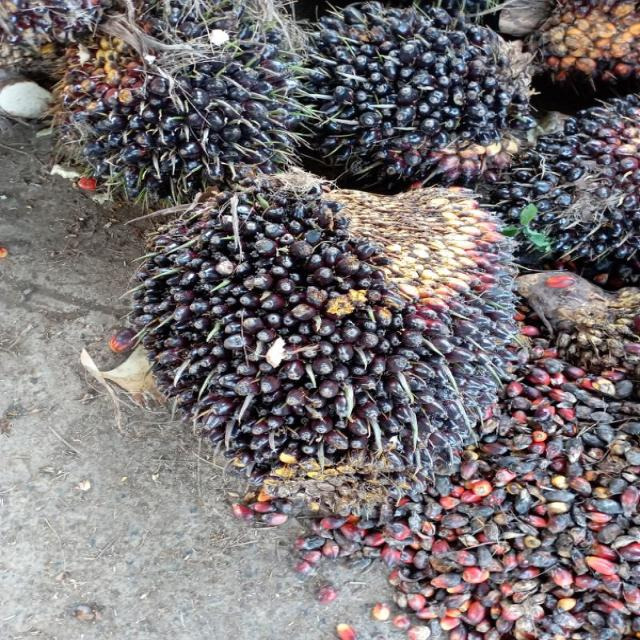fraksi 00: (73, 166, 610, 517)
